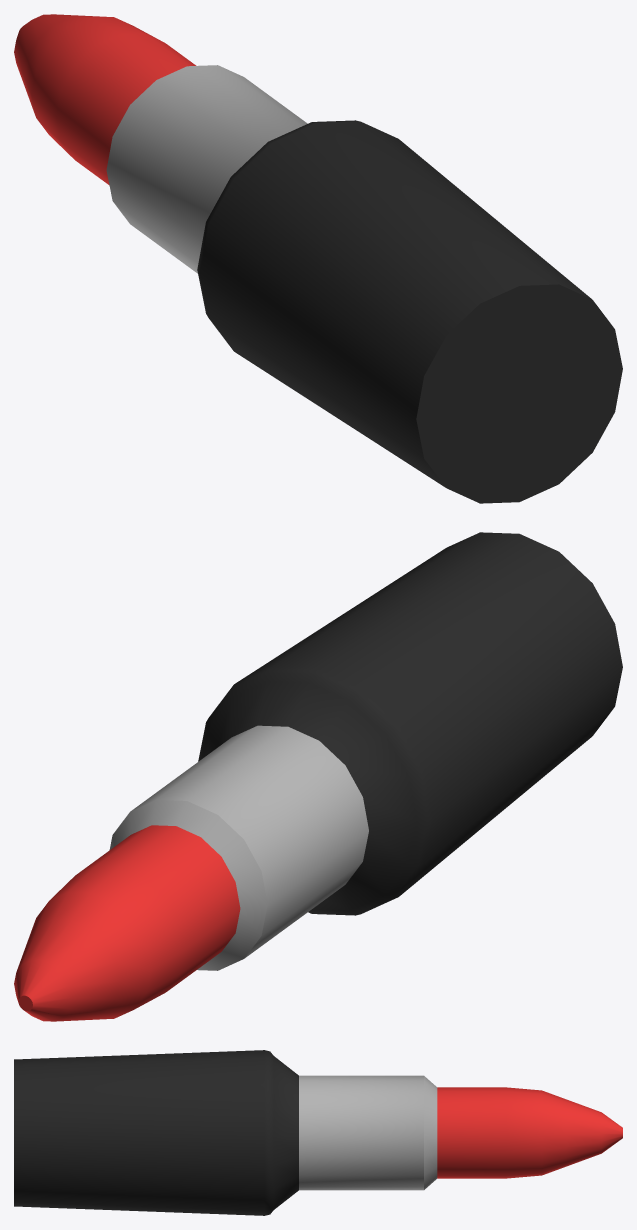
Rendered from Lipstick.fbx.
3 renders of one model, top to bottom at view 1: azimuth 30°, elevation 25°; view 2: azimuth 150°, elevation 25°; view 3: azimuth 270°, elevation 25°, orthographic. The views are drawn at different scales.
Parts seen in each view (by area): view 1: Cube.003; view 2: Cube.003; view 3: Cube.003.
Boxes of the visible parts, x1,y1,x2,y2 form: Cube.003: [14, 14, 622, 503]; Cube.003: [14, 532, 622, 1021]; Cube.003: [14, 1050, 622, 1215].
Size of the model in its own units: 2.94 by 2.94 by 10.79.
